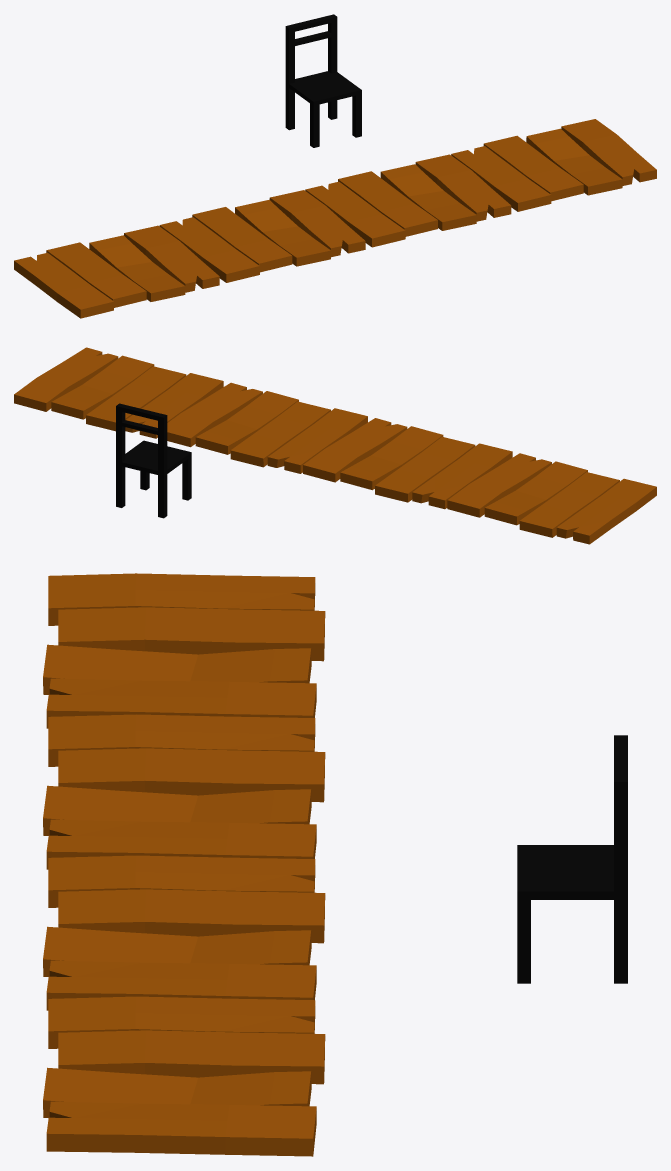
File: path.fbx
The picture shows the model from 3 angles, top to bottom: view 1: azimuth 30°, elevation 25°; view 2: azimuth 150°, elevation 25°; view 3: azimuth 270°, elevation 25°; orthographic projection. The views are drawn at different scales.
Parts seen in each view (by area): view 1: Wood Path, Kede; view 2: Wood Path, Kede; view 3: Wood Path, Kede.
Boxes of the visible parts, box(x1,y1,x2,y2) form: Wood Path: box(14, 119, 656, 318); Kede: box(285, 14, 361, 147); Wood Path: box(14, 347, 656, 544); Kede: box(116, 403, 191, 518); Wood Path: box(43, 573, 325, 1156); Kede: box(517, 735, 627, 983).
Bounding box in the file's own units: 1003 × 170 × 440.
